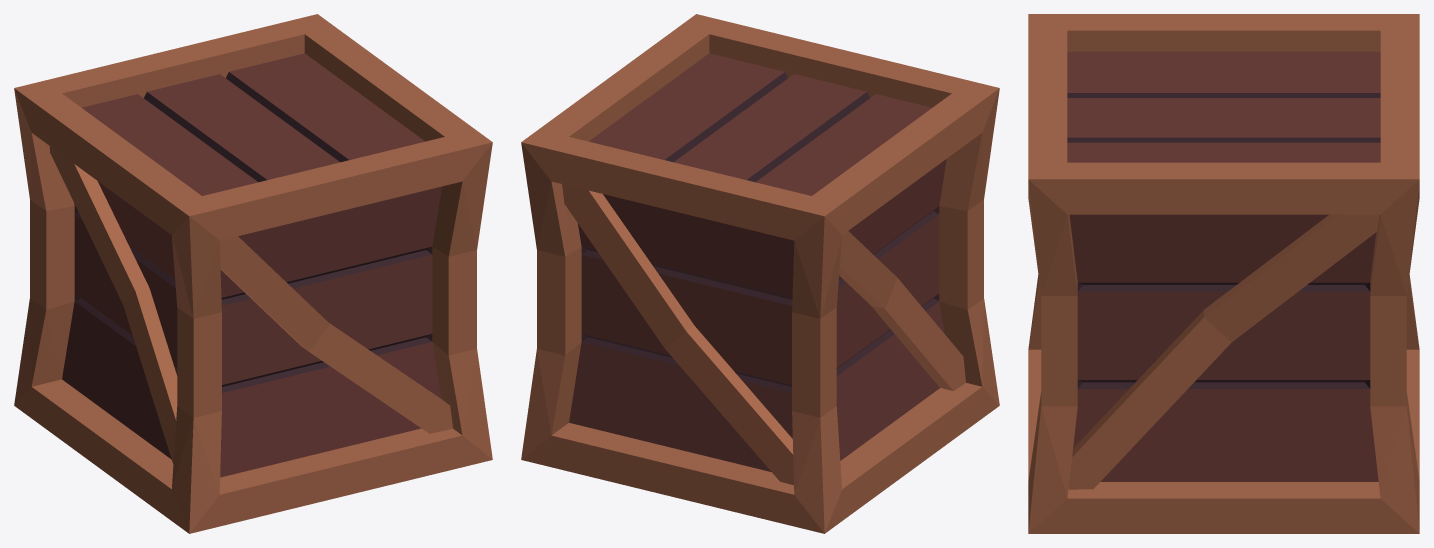
File: storage_crate.glb
3 views of the same model, side by side, from view 1: azimuth 30°, elevation 25°; view 2: azimuth 150°, elevation 25°; view 3: azimuth 270°, elevation 25° (orthographic). The views are drawn at different scales.
Visible parts, largest first — view 1: Crate_base, Crate_lid; view 2: Crate_base, Crate_lid; view 3: Crate_base, Crate_lid.
Part boxes in pixels (x1,y1,x2,y2): Crate_base: (14, 14, 492, 533); Crate_lid: (82, 53, 424, 195); Crate_base: (521, 14, 999, 533); Crate_lid: (589, 53, 931, 195); Crate_base: (1028, 14, 1419, 533); Crate_lid: (1067, 51, 1380, 162).
Size of the model in its own units: 1 by 1 by 1.
Materials: 2 (2 with a texture image).
